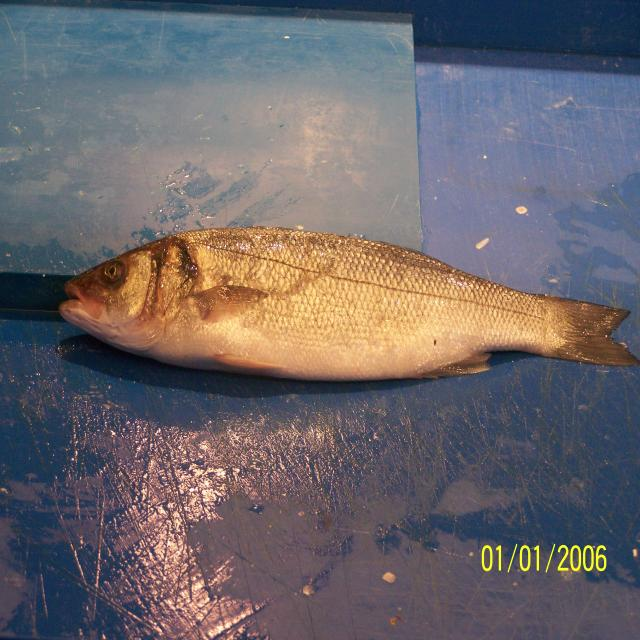Sea-Bass-levrek-: (57, 226, 640, 384)
